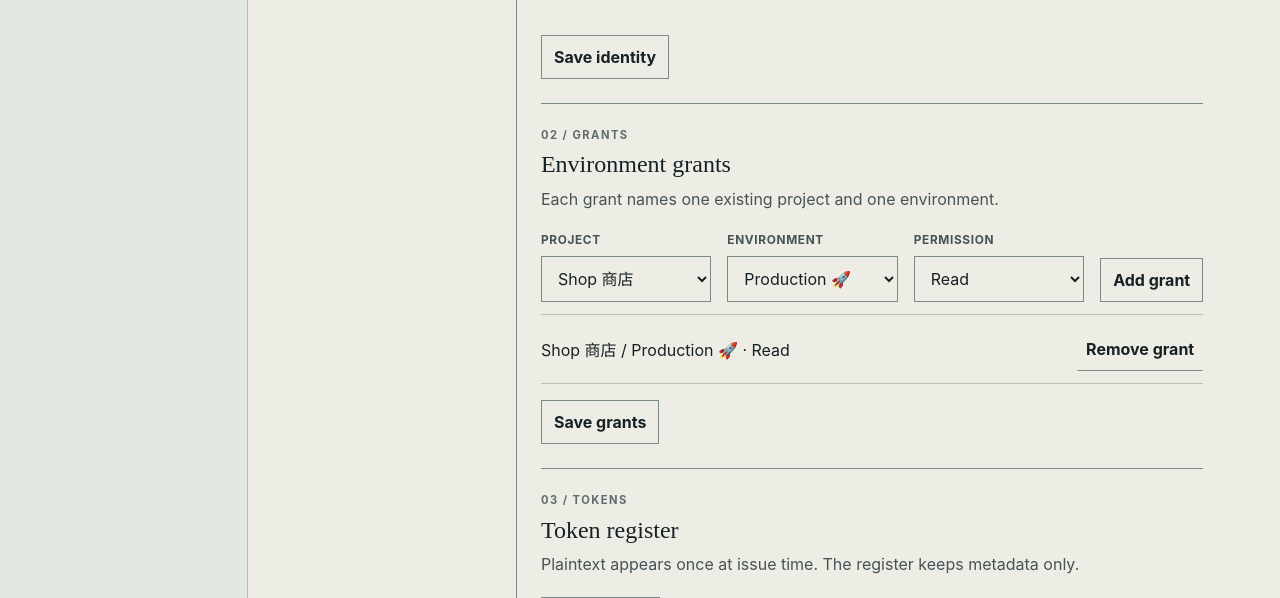
Test: MachineAccessPage › renders saved permission labels and replaces the permission for the same grant key
The image size is (1280, 598).
(page scrolled)
Expected: the text "Shop 商店 / Production 🚀 · Read" is shown, [541, 337, 790, 361]
Select "Read and write" in the dropdown labelled "Permission": point(999, 279) [914, 256, 1084, 302]
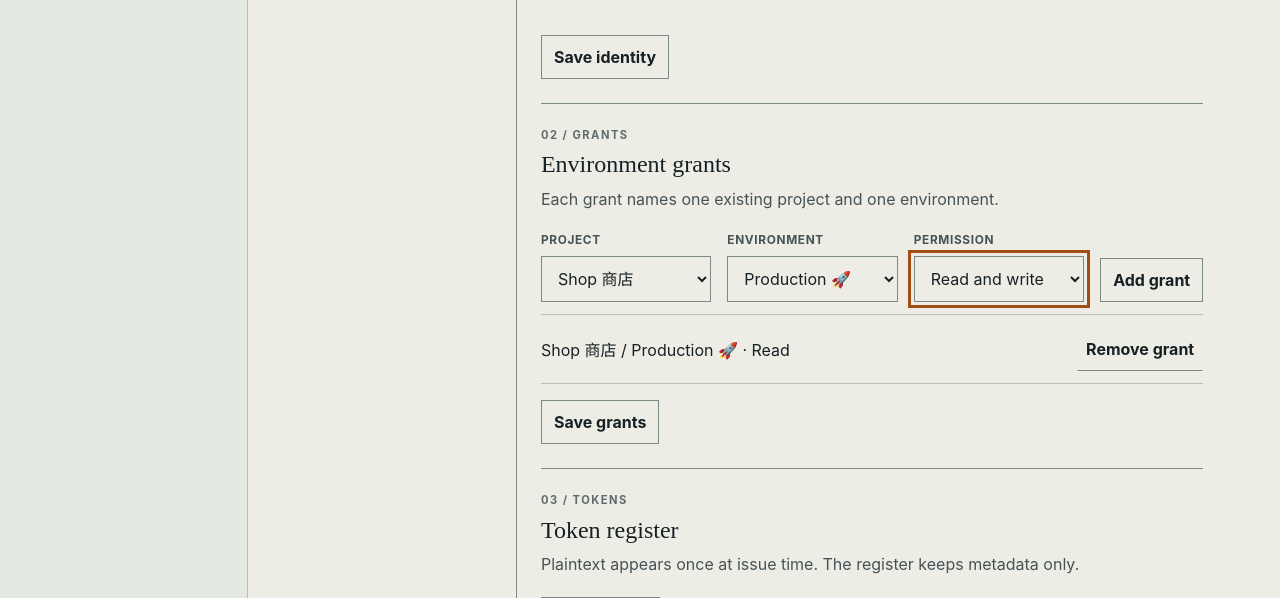
Click the button "Add grant": point(1152, 280) [1100, 258, 1203, 302]
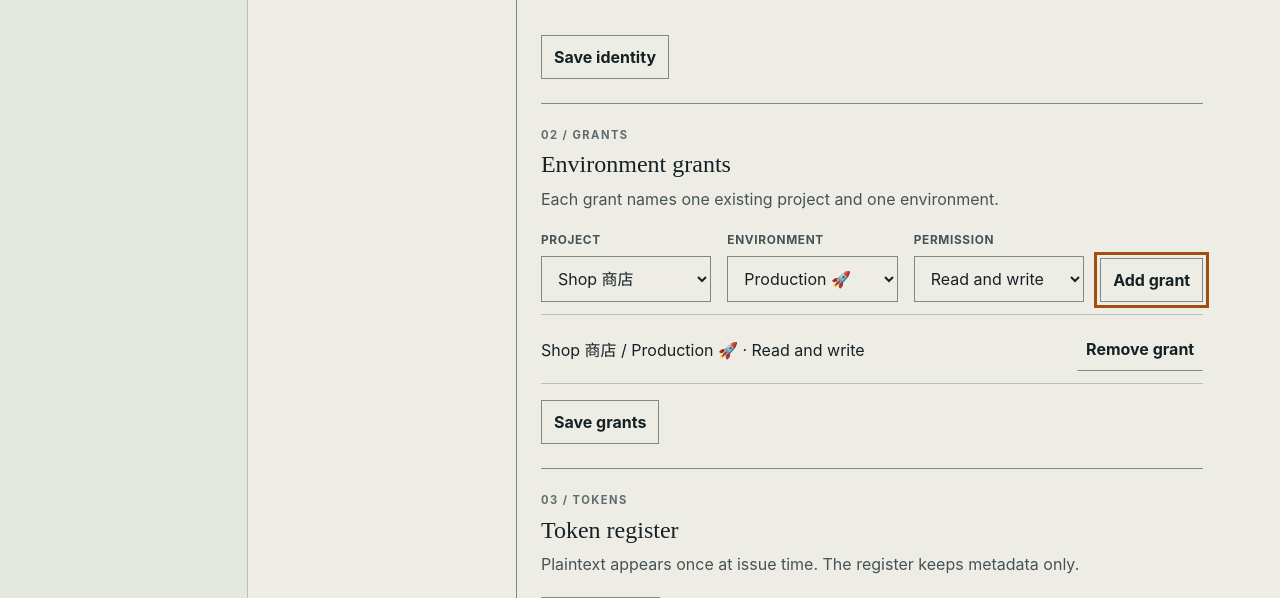
Expected: the text "Shop 商店 / Production 🚀 · Read and write" is shown, [541, 337, 865, 361]
